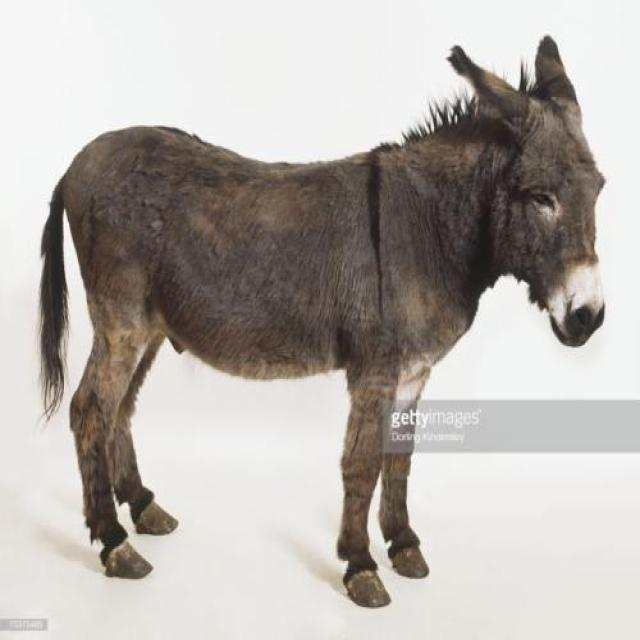Donkey: (39, 33, 606, 610)
